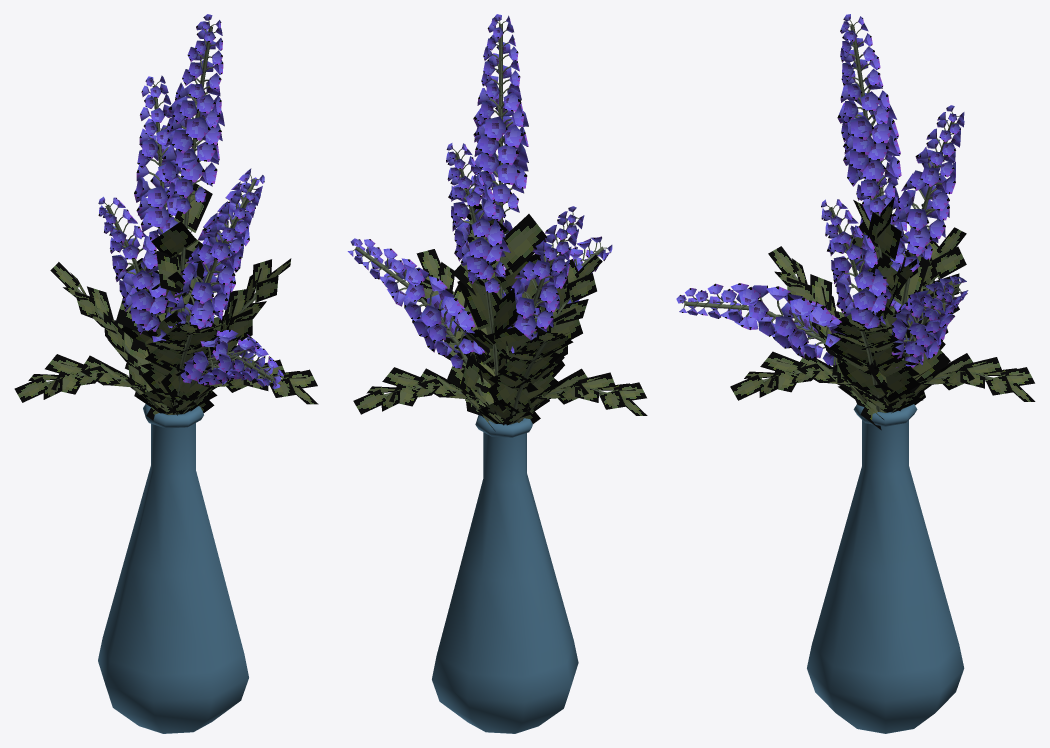
File: a_com_house_a01_plant01_blue.gltf
3 renders of one model, left to right at view 1: azimuth 30°, elevation 25°; view 2: azimuth 150°, elevation 25°; view 3: azimuth 270°, elevation 25°, orthographic. The views are drawn at different scales.
Parts seen in each view (by area): view 1: um_a_com_house_a01_plant01_model_a_com_house_a01_plant01_mod (×2); view 2: um_a_com_house_a01_plant01_model_a_com_house_a01_plant01_mod (×2); view 3: um_a_com_house_a01_plant01_model_a_com_house_a01_plant01_mod (×2).
Part boxes in pixels (x1,y1,x2,y2): um_a_com_house_a01_plant01_model_a_com_house_a01_plant01_mod (×2): [14, 14, 318, 733]; um_a_com_house_a01_plant01_model_a_com_house_a01_plant01_mod (×2): [347, 14, 647, 733]; um_a_com_house_a01_plant01_model_a_com_house_a01_plant01_mod (×2): [676, 14, 1035, 733].
Bounding box in the file's own units: 0.3854 × 0.9504 × 0.4352.
Materials: 2 (2 with a texture image).
